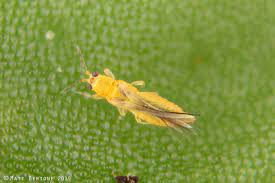Thrips: (52, 50, 220, 137)
